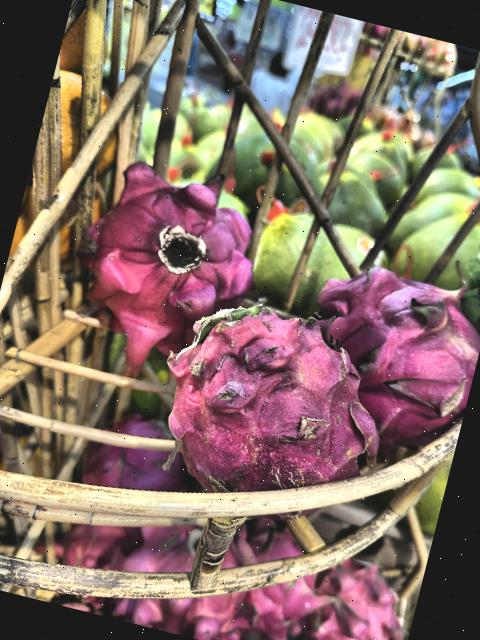buah-naga-matang: (137, 287, 412, 539), (76, 152, 274, 360), (285, 251, 480, 460)
